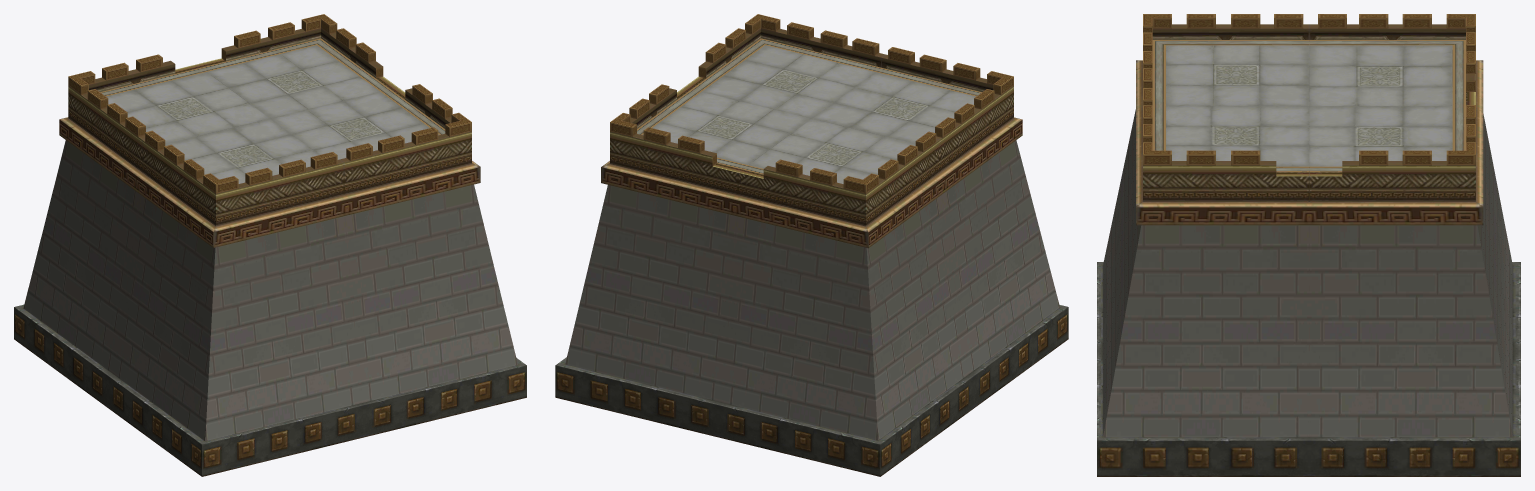
The model's file is Yland1_jz_02 Yland1.FBX.
3 views of the same model, side by side, from view 1: azimuth 30°, elevation 25°; view 2: azimuth 150°, elevation 25°; view 3: azimuth 270°, elevation 25° (orthographic). The views are drawn at different scales.
Visible parts, largest first — view 1: Yland1_jz_02 Yland1; view 2: Yland1_jz_02 Yland1; view 3: Yland1_jz_02 Yland1.
Part boxes in pixels (box(x1,y1,x2,y2)): Yland1_jz_02 Yland1: box(14, 14, 526, 476); Yland1_jz_02 Yland1: box(555, 14, 1068, 476); Yland1_jz_02 Yland1: box(1097, 14, 1520, 476).
Size of the model in its own units: 13.87 by 10.98 by 13.91.
